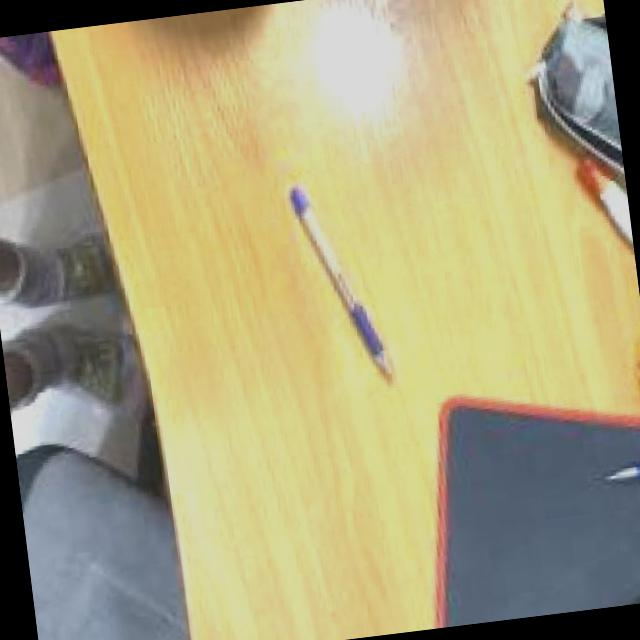Pen - Non Recyclable: (285, 180, 397, 394)
